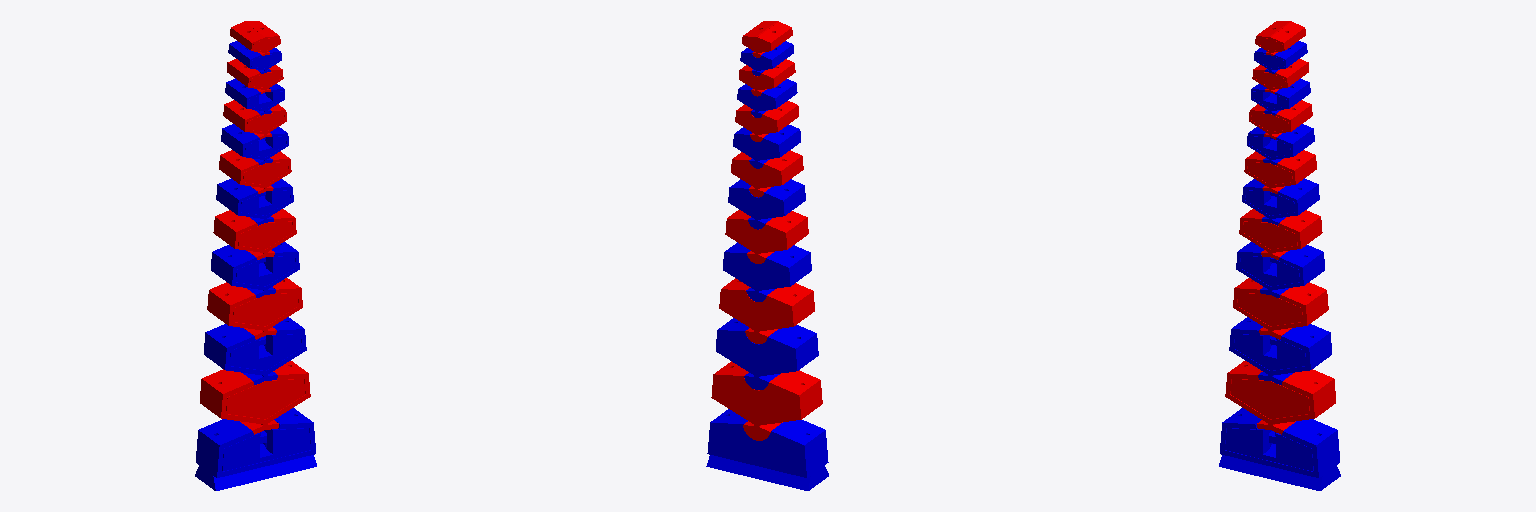
URDF robot description (spirob):
<?xml version='1.0' encoding='utf-8'?>
<robot name="spirob">
  <link name="base_link" />

  <link name="seg_0">
    <inertial>
      <origin xyz="0 0 0" rpy="0 0 0" />
      <mass value="0.00310262138" />
      <inertia ixx="9.97170262e-08" ixy="0" ixz="0" iyy="9.97170262e-08" iyz="0" izz="1.51519413e-07" />
    </inertial>
    <visual>
      <origin xyz="0 0 0" rpy="0 0 0" />
      <geometry>
        <mesh filename="meshes/seg_0.stl" scale="0.001 0.001 0.001" />
      </geometry>
      <material name="mat_6">
        <color rgba="1 0 0 1.0" />
      </material>
    </visual>
  </link>

  <link name="seg_1">
    <inertial>
      <origin xyz="0 0 0" rpy="0 0 0" />
      <mass value="0.00405930298" />
      <inertia ixx="1.5606558e-07" ixy="0" ixz="0" iyy="1.5606558e-07" iyz="0" izz="2.37140698e-07" />
    </inertial>
    <visual>
      <origin xyz="0 0 0" rpy="0 0 0" />
      <geometry>
        <mesh filename="meshes/seg_1.stl" scale="0.001 0.001 0.001" />
      </geometry>
      <material name="mat_7">
        <color rgba="0 0 1 1.0" />
      </material>
    </visual>
  </link>

  <link name="seg_2">
    <inertial>
      <origin xyz="0 0 0.00575745397" rpy="0 0 0" />
      <mass value="0.00531097376" />
      <inertia ixx="2.44255833e-07" ixy="0" ixz="0" iyy="2.44255833e-07" iyz="0" izz="3.71145249e-07" />
    </inertial>
    <visual>
      <origin xyz="0 0 0" rpy="0 0 0" />
      <geometry>
        <mesh filename="meshes/seg_2.stl" scale="0.001 0.001 0.001" />
      </geometry>
      <material name="mat_8">
        <color rgba="1 0 0 1.0" />
      </material>
    </visual>
  </link>

  <link name="seg_3">
    <inertial>
      <origin xyz="0 0 0.00629706298" rpy="0 0 0" />
      <mass value="0.0069485925" />
      <inertia ixx="3.82281038e-07" ixy="0" ixz="0" iyy="3.82281038e-07" iyz="0" izz="5.80873706e-07" />
    </inertial>
    <visual>
      <origin xyz="0 0 0" rpy="0 0 0" />
      <geometry>
        <mesh filename="meshes/seg_3.stl" scale="0.001 0.001 0.001" />
      </geometry>
      <material name="mat_9">
        <color rgba="0 0 1 1.0" />
      </material>
    </visual>
  </link>

  <link name="seg_4">
    <inertial>
      <origin xyz="0 0 0.00688724606" rpy="0 0 0" />
      <mass value="0.00909116481" />
      <inertia ixx="5.98302157e-07" ixy="0" ixz="0" iyy="5.98302157e-07" iyz="0" izz="9.09116481e-07" />
    </inertial>
    <visual>
      <origin xyz="0 0 0" rpy="0 0 0" />
      <geometry>
        <mesh filename="meshes/seg_4.stl" scale="0.001 0.001 0.001" />
      </geometry>
      <material name="mat_10">
        <color rgba="1 0 0 1.0" />
      </material>
    </visual>
  </link>

  <link name="seg_5">
    <inertial>
      <origin xyz="0 0 0.0075327432" rpy="0 0 0" />
      <mass value="0.0118943912" />
      <inertia ixx="9.36393481e-07" ixy="0" ixz="0" iyy="9.36393481e-07" iyz="0" izz="1.42284419e-06" />
    </inertial>
    <visual>
      <origin xyz="0 0 0" rpy="0 0 0" />
      <geometry>
        <mesh filename="meshes/seg_5.stl" scale="0.001 0.001 0.001" />
      </geometry>
      <material name="mat_11">
        <color rgba="0 0 1 1.0" />
      </material>
    </visual>
  </link>

  <link name="seg_6">
    <inertial>
      <origin xyz="0 0 0.00823873862" rpy="0 0 0" />
      <mass value="0.0155619819" />
      <inertia ixx="1.465535e-06" ixy="0" ixz="0" iyy="1.465535e-06" iyz="0" izz="2.22687149e-06" />
    </inertial>
    <visual>
      <origin xyz="0 0 0" rpy="0 0 0" />
      <geometry>
        <mesh filename="meshes/seg_6.stl" scale="0.001 0.001 0.001" />
      </geometry>
      <material name="mat_12">
        <color rgba="1 0 0 1.0" />
      </material>
    </visual>
  </link>

  <link name="seg_7">
    <inertial>
      <origin xyz="0 0 0.00901090243" rpy="0 0 0" />
      <mass value="0.0203604604" />
      <inertia ixx="2.29368623e-06" ixy="0" ixz="0" iyy="2.29368623e-06" iyz="0" izz="3.48524224e-06" />
    </inertial>
    <visual>
      <origin xyz="0 0 0" rpy="0 0 0" />
      <geometry>
        <mesh filename="meshes/seg_7.stl" scale="0.001 0.001 0.001" />
      </geometry>
      <material name="mat_13">
        <color rgba="0 0 1 1.0" />
      </material>
    </visual>
  </link>

  <link name="seg_8">
    <inertial>
      <origin xyz="0 0 0.00985543617" rpy="0 0 0" />
      <mass value="0.0266385316" />
      <inertia ixx="3.58981294e-06" ixy="0" ixz="0" iyy="3.58981294e-06" iyz="0" izz="5.45469888e-06" />
    </inertial>
    <visual>
      <origin xyz="0 0 0" rpy="0 0 0" />
      <geometry>
        <mesh filename="meshes/seg_8.stl" scale="0.001 0.001 0.001" />
      </geometry>
      <material name="mat_14">
        <color rgba="1 0 0 1.0" />
      </material>
    </visual>
  </link>

  <link name="seg_9">
    <inertial>
      <origin xyz="0 0 0.0107791226" rpy="0 0 0" />
      <mass value="0.0348524224" />
      <inertia ixx="5.61836088e-06" ixy="0" ixz="0" iyy="5.61836088e-06" iyz="0" izz="8.53706511e-06" />
    </inertial>
    <visual>
      <origin xyz="0 0 0" rpy="0 0 0" />
      <geometry>
        <mesh filename="meshes/seg_9.stl" scale="0.001 0.001 0.001" />
      </geometry>
      <material name="mat_15">
        <color rgba="0 0 1 1.0" />
      </material>
    </visual>
  </link>

  <link name="seg_10">
    <inertial>
      <origin xyz="0 0 0.0117893802" rpy="0 0 0" />
      <mass value="0.0455990354" />
      <inertia ixx="8.79320998e-06" ixy="0" ixz="0" iyy="8.79320998e-06" iyz="0" izz="1.3361229e-05" />
    </inertial>
    <visual>
      <origin xyz="0 0 0" rpy="0 0 0" />
      <geometry>
        <mesh filename="meshes/seg_10.stl" scale="0.001 0.001 0.001" />
      </geometry>
      <material name="mat_16">
        <color rgba="1 0 0 1.0" />
      </material>
    </visual>
  </link>

  <link name="seg_11">
    <inertial>
      <origin xyz="0 0 0.0128943228" rpy="0 0 0" />
      <mass value="0.0596593261" />
      <inertia ixx="1.37621174e-05" ixy="0" ixz="0" iyy="1.37621174e-05" iyz="0" izz="2.09114534e-05" />
    </inertial>
    <visual>
      <origin xyz="0 0 0" rpy="0 0 0" />
      <geometry>
        <mesh filename="meshes/seg_11.stl" scale="0.001 0.001 0.001" />
      </geometry>
      <material name="mat_17">
        <color rgba="0 0 1 1.0" />
      </material>
    </visual>
  </link>

  <link name="seg_12">
    <inertial>
      <origin xyz="0 0 0.0141028244" rpy="0 0 0" />
      <mass value="0.0780550545" />
      <inertia ixx="2.15388777e-05" ixy="0" ixz="0" iyy="2.15388777e-05" iyz="0" izz="3.27281933e-05" />
    </inertial>
    <visual>
      <origin xyz="0 0 0" rpy="0 0 0" />
      <geometry>
        <mesh filename="meshes/seg_12.stl" scale="0.001 0.001 0.001" />
      </geometry>
      <material name="mat_18">
        <color rgba="1 0 0 1.0" />
      </material>
    </visual>
  </link>

  <link name="seg_-1">
    <inertial>
      <origin xyz="0 0 0.0154245912" rpy="0 0 0" />
      <mass value="0.102123036" />
      <inertia ixx="3.37101653e-05" ixy="0" ixz="0" iyy="3.37101653e-05" iyz="0" izz="5.12223907e-05" />
    </inertial>
    <visual>
      <origin xyz="0 0 0" rpy="0 0 0" />
      <geometry>
        <mesh filename="meshes/seg_-1.stl" scale="0.001 0.001 0.001" />
      </geometry>
      <material name="mat_19">
        <color rgba="0 0 1 1.0" />
      </material>
    </visual>
  </link>

  <joint name="fixed_root" type="fixed">
    <parent link="base_link" />
    <child link="seg_-1" />
    <origin xyz="0 0 0" rpy="0 0 0" />
  </joint>

  <joint name="j_12" type="revolute">
    <parent link="seg_-1" />
    <child link="seg_12" />
    <origin xyz="0 0 0.05545" rpy="0 0 0" />
    <axis xyz="0 1 0" />
    <limit lower="-0.5200823965970571" upper="0.5200823965970571" effort="1.0" velocity="1.0" />
  </joint>

  <joint name="j_11" type="revolute">
    <parent link="seg_12" />
    <child link="seg_11" />
    <origin xyz="0 0 0.050545" rpy="0 0 0" />
    <axis xyz="0 1 0" />
    <limit lower="-0.5200823965970571" upper="0.5200823965970571" effort="1.0" velocity="1.0" />
  </joint>

  <joint name="j_10" type="revolute">
    <parent link="seg_11" />
    <child link="seg_10" />
    <origin xyz="0 0 0.046074" rpy="0 0 0" />
    <axis xyz="0 1 0" />
    <limit lower="-0.5200823965970571" upper="0.5200823965970571" effort="1.0" velocity="1.0" />
  </joint>

  <joint name="j_9" type="revolute">
    <parent link="seg_10" />
    <child link="seg_9" />
    <origin xyz="0 0 0.041999" rpy="0 0 0" />
    <axis xyz="0 1 0" />
    <limit lower="-0.5200823965970571" upper="0.5200823965970571" effort="1.0" velocity="1.0" />
  </joint>

  <joint name="j_8" type="revolute">
    <parent link="seg_9" />
    <child link="seg_8" />
    <origin xyz="0 0 0.038284" rpy="0 0 0" />
    <axis xyz="0 1 0" />
    <limit lower="-0.5200823965970571" upper="0.5200823965970571" effort="1.0" velocity="1.0" />
  </joint>

  <joint name="j_7" type="revolute">
    <parent link="seg_8" />
    <child link="seg_7" />
    <origin xyz="0 0 0.034897" rpy="0 0 0" />
    <axis xyz="0 1 0" />
    <limit lower="-0.5200823965970571" upper="0.5200823965970571" effort="1.0" velocity="1.0" />
  </joint>

  <joint name="j_6" type="revolute">
    <parent link="seg_7" />
    <child link="seg_6" />
    <origin xyz="0 0 0.031811" rpy="0 0 0" />
    <axis xyz="0 1 0" />
    <limit lower="-0.5200823965970571" upper="0.5200823965970571" effort="1.0" velocity="1.0" />
  </joint>

  <joint name="j_5" type="revolute">
    <parent link="seg_6" />
    <child link="seg_5" />
    <origin xyz="0 0 0.028997" rpy="0 0 0" />
    <axis xyz="0 1 0" />
    <limit lower="-0.5200823965970571" upper="0.5200823965970571" effort="1.0" velocity="1.0" />
  </joint>

  <joint name="j_4" type="revolute">
    <parent link="seg_5" />
    <child link="seg_4" />
    <origin xyz="0 0 0.026432" rpy="0 0 0" />
    <axis xyz="0 1 0" />
    <limit lower="-0.5200823965970571" upper="0.5200823965970571" effort="1.0" velocity="1.0" />
  </joint>

  <joint name="j_3" type="revolute">
    <parent link="seg_4" />
    <child link="seg_3" />
    <origin xyz="0 0 0.024094" rpy="0 0 0" />
    <axis xyz="0 1 0" />
    <limit lower="-0.5200823965970571" upper="0.5200823965970571" effort="1.0" velocity="1.0" />
  </joint>

  <joint name="j_2" type="revolute">
    <parent link="seg_3" />
    <child link="seg_2" />
    <origin xyz="0 0 0.021963" rpy="0 0 0" />
    <axis xyz="0 1 0" />
    <limit lower="-0.5200823965970571" upper="0.5200823965970571" effort="1.0" velocity="1.0" />
  </joint>

  <joint name="j_1" type="revolute">
    <parent link="seg_2" />
    <child link="seg_1" />
    <origin xyz="0 0 0.02002" rpy="0 0 0" />
    <axis xyz="0 1 0" />
    <limit lower="-0.5200823965970571" upper="0.5200823965970571" effort="1.0" velocity="1.0" />
  </joint>

  <joint name="j_0" type="revolute">
    <parent link="seg_1" />
    <child link="seg_0" />
    <origin xyz="0 0 0.018249" rpy="0 0 0" />
    <axis xyz="0 1 0" />
    <limit lower="-0.5200823965970571" upper="0.5200823965970571" effort="1.0" velocity="1.0" />
  </joint>
</robot>

--- Render facts (derived) ---
3 views of the same robot in one strip: view 1: azimuth 30°, elevation 25°; view 2: azimuth 150°, elevation 25°; view 3: azimuth 330°, elevation 25° (orthographic).
Robot: spirob — 15 links, 14 joints (13 revolute, 1 fixed); root link base_link; default pose: all joints at 0.
Visible links, largest first — view 1: seg_-1, seg_12, seg_11, seg_10, seg_9, seg_8, seg_7, seg_6, seg_5, seg_4, seg_3, seg_0 (+2 smaller); view 2: seg_-1, seg_12, seg_11, seg_10, seg_9, seg_8, seg_7, seg_6, seg_5, seg_4, seg_3, seg_0 (+2 smaller); view 3: seg_-1, seg_12, seg_11, seg_10, seg_9, seg_8, seg_7, seg_6, seg_5, seg_4, seg_3, seg_0 (+2 smaller).
Boxes of the visible links, bbox=[...] form: seg_-1: bbox=[195, 408, 316, 490]; seg_12: bbox=[200, 361, 310, 434]; seg_11: bbox=[204, 317, 306, 384]; seg_10: bbox=[207, 278, 302, 339]; seg_9: bbox=[211, 242, 299, 297]; seg_8: bbox=[213, 209, 296, 259]; seg_7: bbox=[216, 178, 293, 225]; seg_6: bbox=[219, 150, 291, 193]; seg_5: bbox=[221, 124, 288, 164]; seg_4: bbox=[223, 100, 286, 139]; seg_3: bbox=[225, 78, 284, 115]; seg_0: bbox=[230, 21, 280, 55]; seg_-1: bbox=[706, 409, 828, 490]; seg_12: bbox=[711, 361, 822, 440]; seg_11: bbox=[716, 318, 818, 389]; seg_10: bbox=[719, 278, 814, 343]; seg_9: bbox=[723, 242, 811, 301]; seg_8: bbox=[725, 210, 808, 263]; seg_7: bbox=[728, 179, 805, 229]; seg_6: bbox=[731, 150, 803, 197]; seg_5: bbox=[733, 125, 800, 168]; seg_4: bbox=[735, 101, 798, 141]; seg_3: bbox=[737, 79, 797, 117]; seg_0: bbox=[742, 21, 792, 57]; seg_-1: bbox=[1219, 408, 1340, 490]; seg_12: bbox=[1225, 361, 1335, 434]; seg_11: bbox=[1229, 317, 1331, 384]; seg_10: bbox=[1233, 278, 1328, 339]; seg_9: bbox=[1236, 242, 1324, 297]; seg_8: bbox=[1239, 209, 1322, 259]; seg_7: bbox=[1242, 178, 1319, 225]; seg_6: bbox=[1244, 150, 1316, 193]; seg_5: bbox=[1247, 124, 1314, 164]; seg_4: bbox=[1249, 100, 1312, 139]; seg_3: bbox=[1251, 78, 1310, 115]; seg_0: bbox=[1255, 21, 1305, 55].
Size in the robot's own frame: 0.1097 by 0.0417 by 0.4555 metres.
Meshes: 14 distinct files referenced, 14 mesh visuals loaded (14 binary STL).
